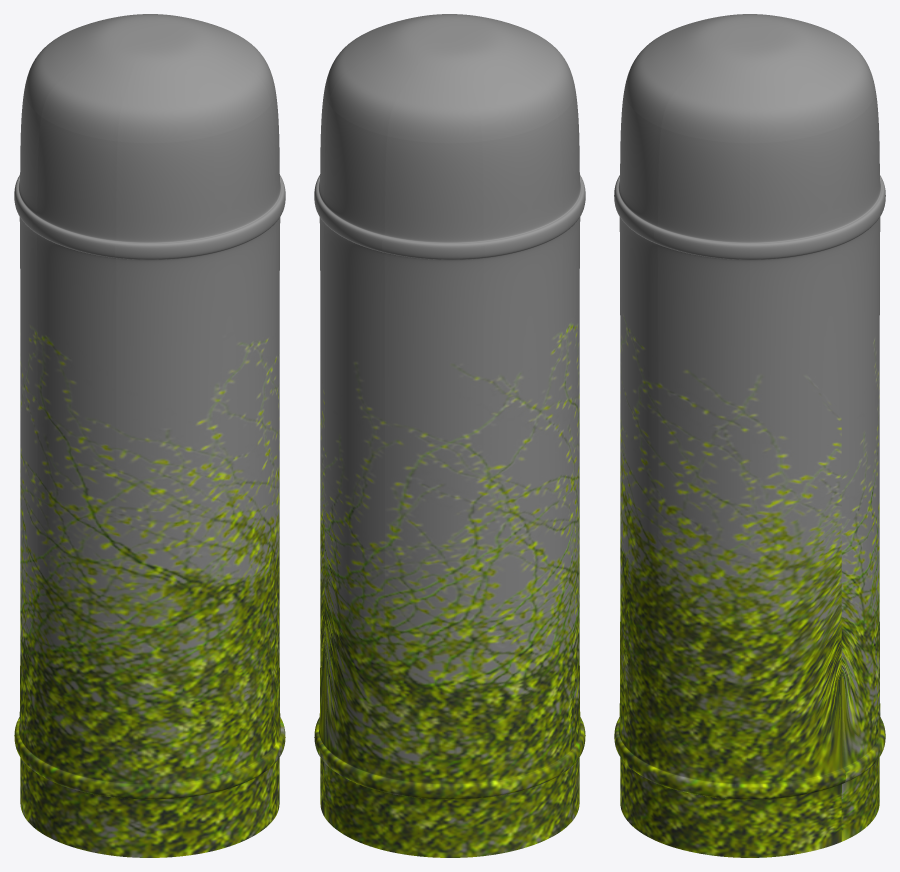
File: greenTank.fbx
3 renders of one model, left to right at view 1: azimuth 30°, elevation 25°; view 2: azimuth 150°, elevation 25°; view 3: azimuth 270°, elevation 25°, orthographic.
Visible parts, largest first — view 1: tank.001; view 2: tank.001; view 3: tank.001.
Boxes of the visible parts, <box> form: tank.001: <box>14,14,285,857</box>; tank.001: <box>314,14,585,857</box>; tank.001: <box>614,14,885,857</box>.
Size of the model in its own units: 3.44 by 10.72 by 3.44.
Materials: 1 (1 with a texture image).
